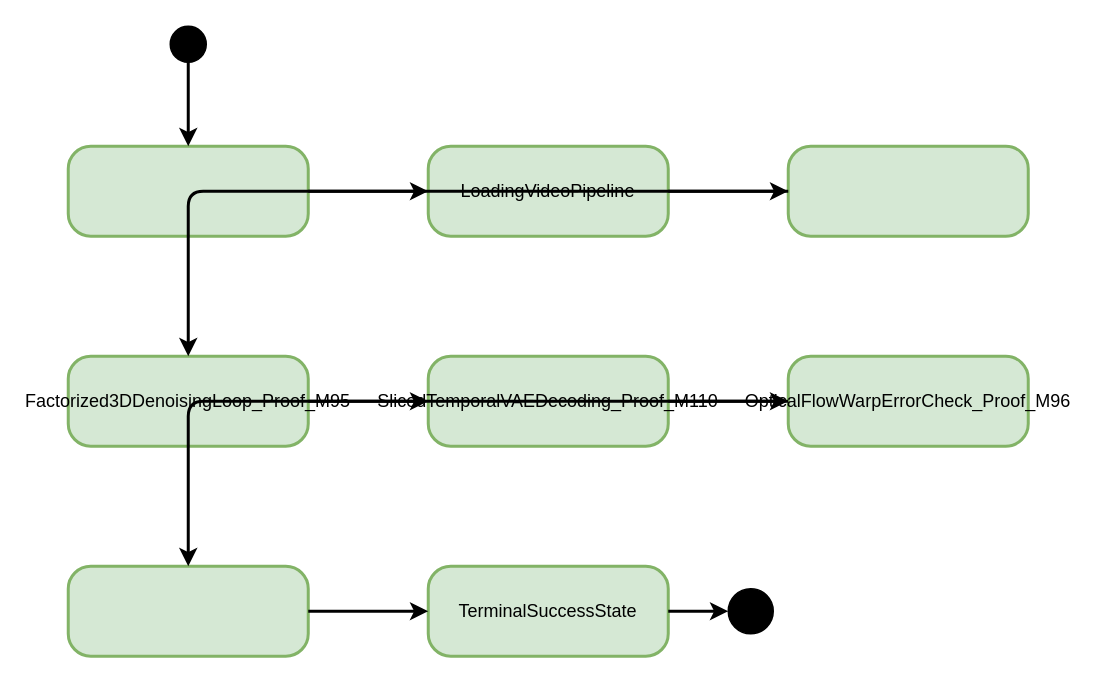
Image size: 1097x684. Some labels were removed from this diagram. Here are the shapes that lost their labels. From the top down, the centre of each, then its label:
(x=187, y=190): InitialIdleState
(x=907, y=190): AOTCacheCheck_Proof_M112
(x=187, y=610): VideoContainerEncoding
